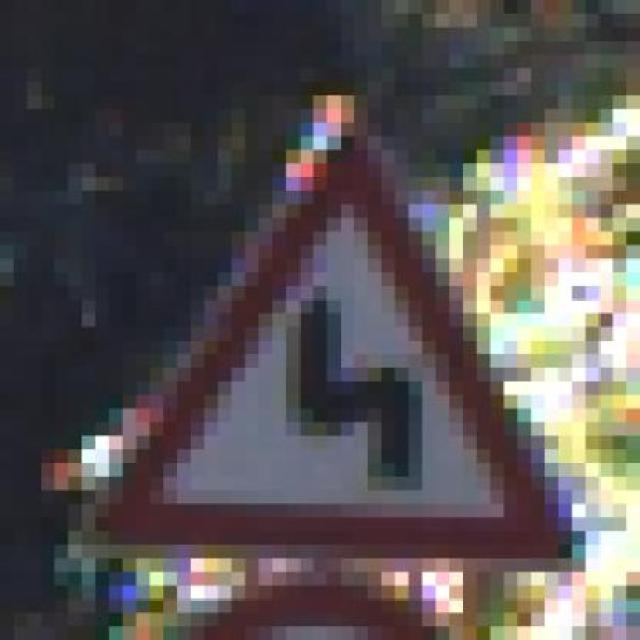Left Zig Zag Traffic: (86, 75, 577, 580)
